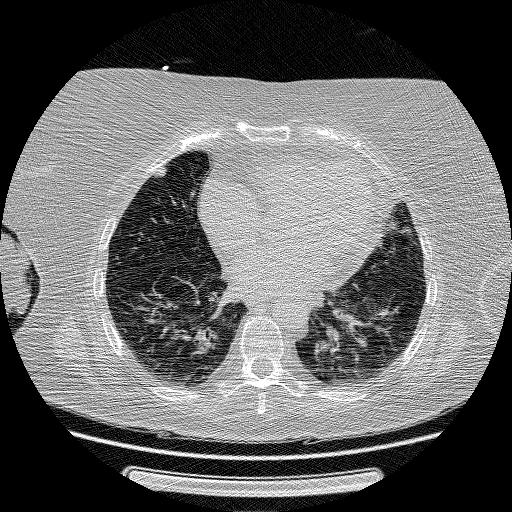nodule: (153, 164, 169, 180)
